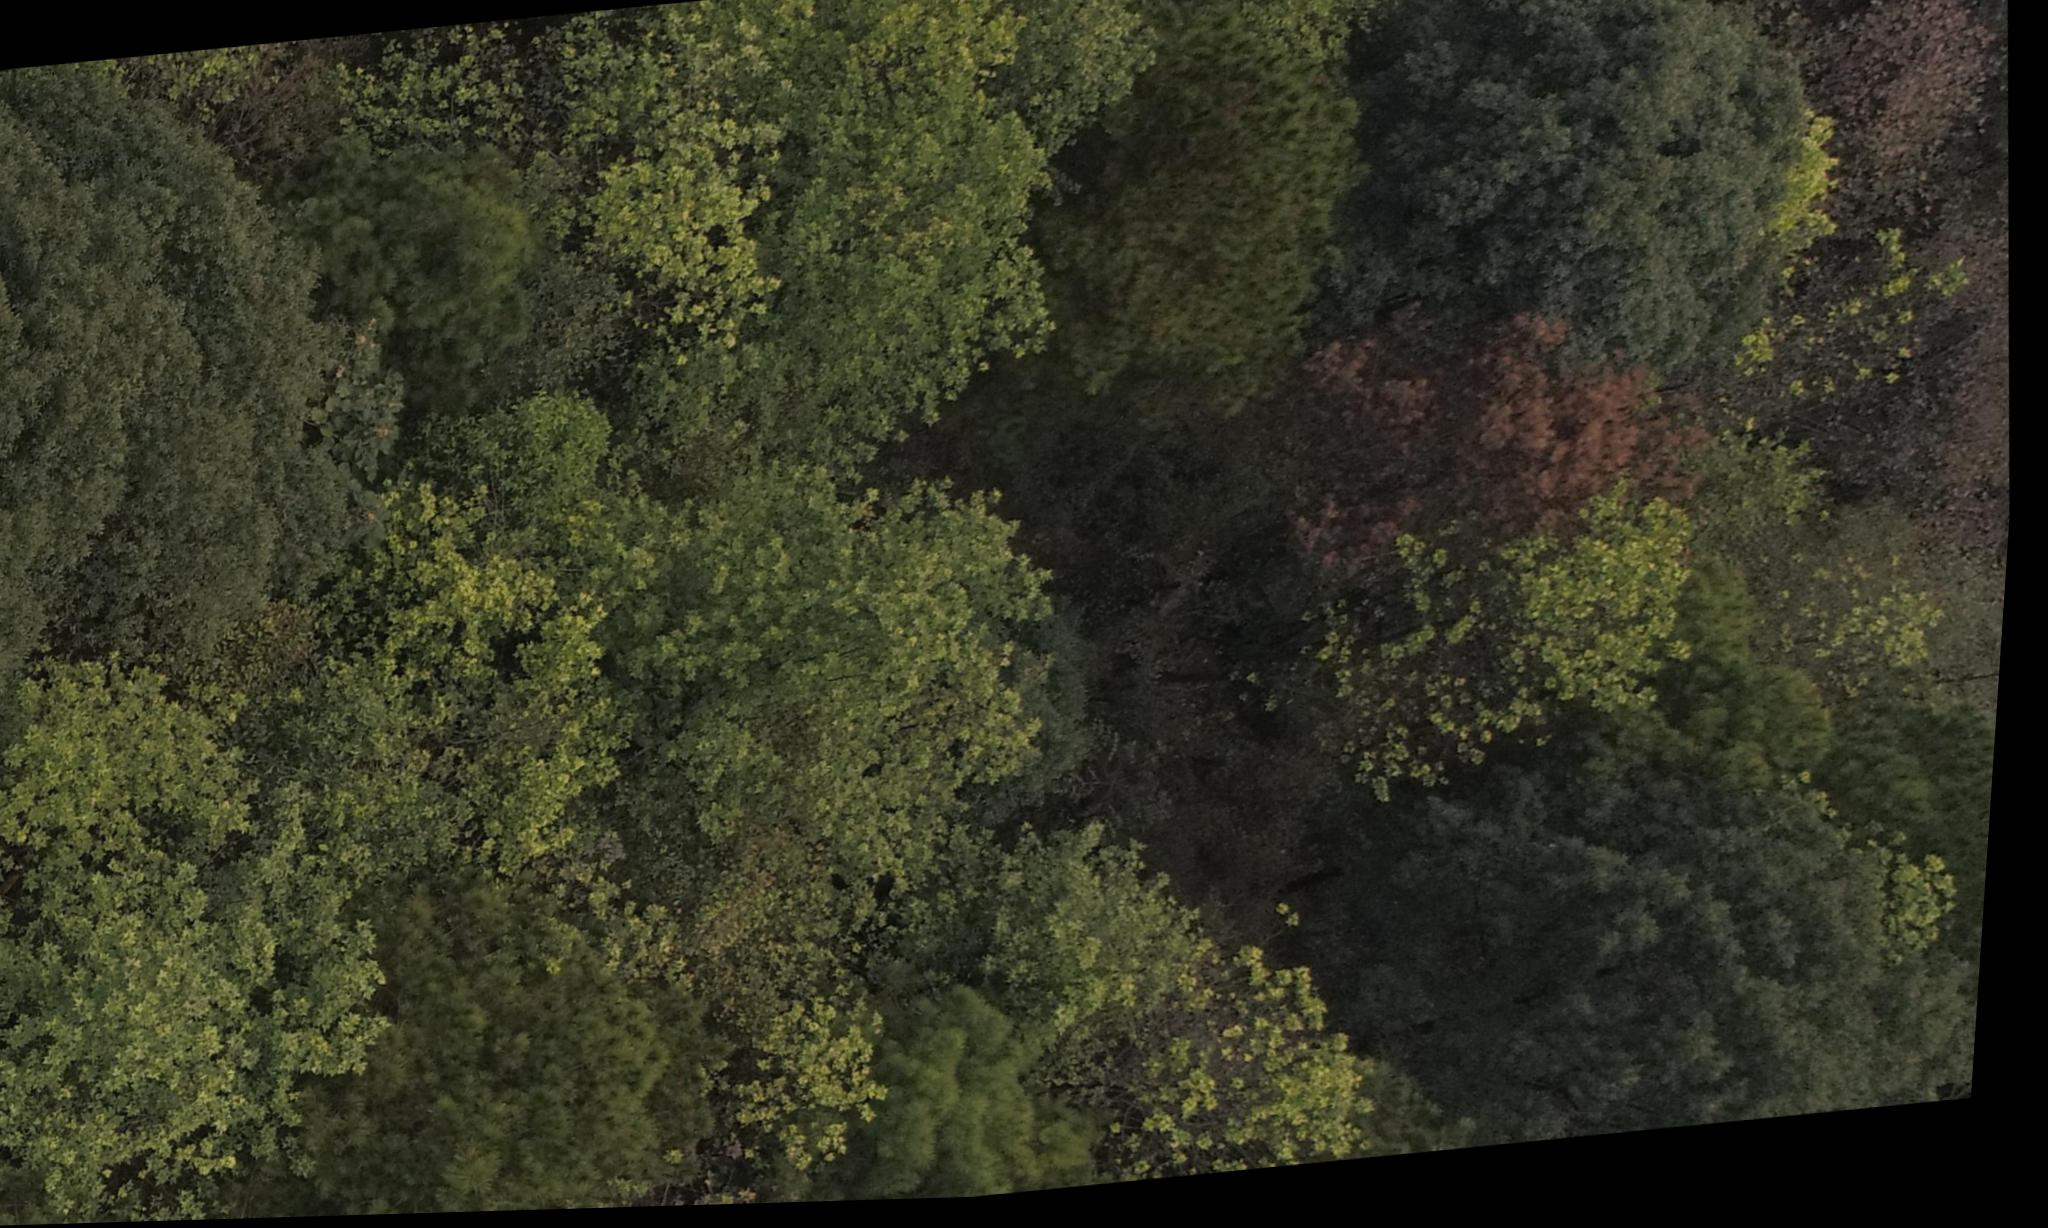heavy: (1256, 291, 1737, 602)
